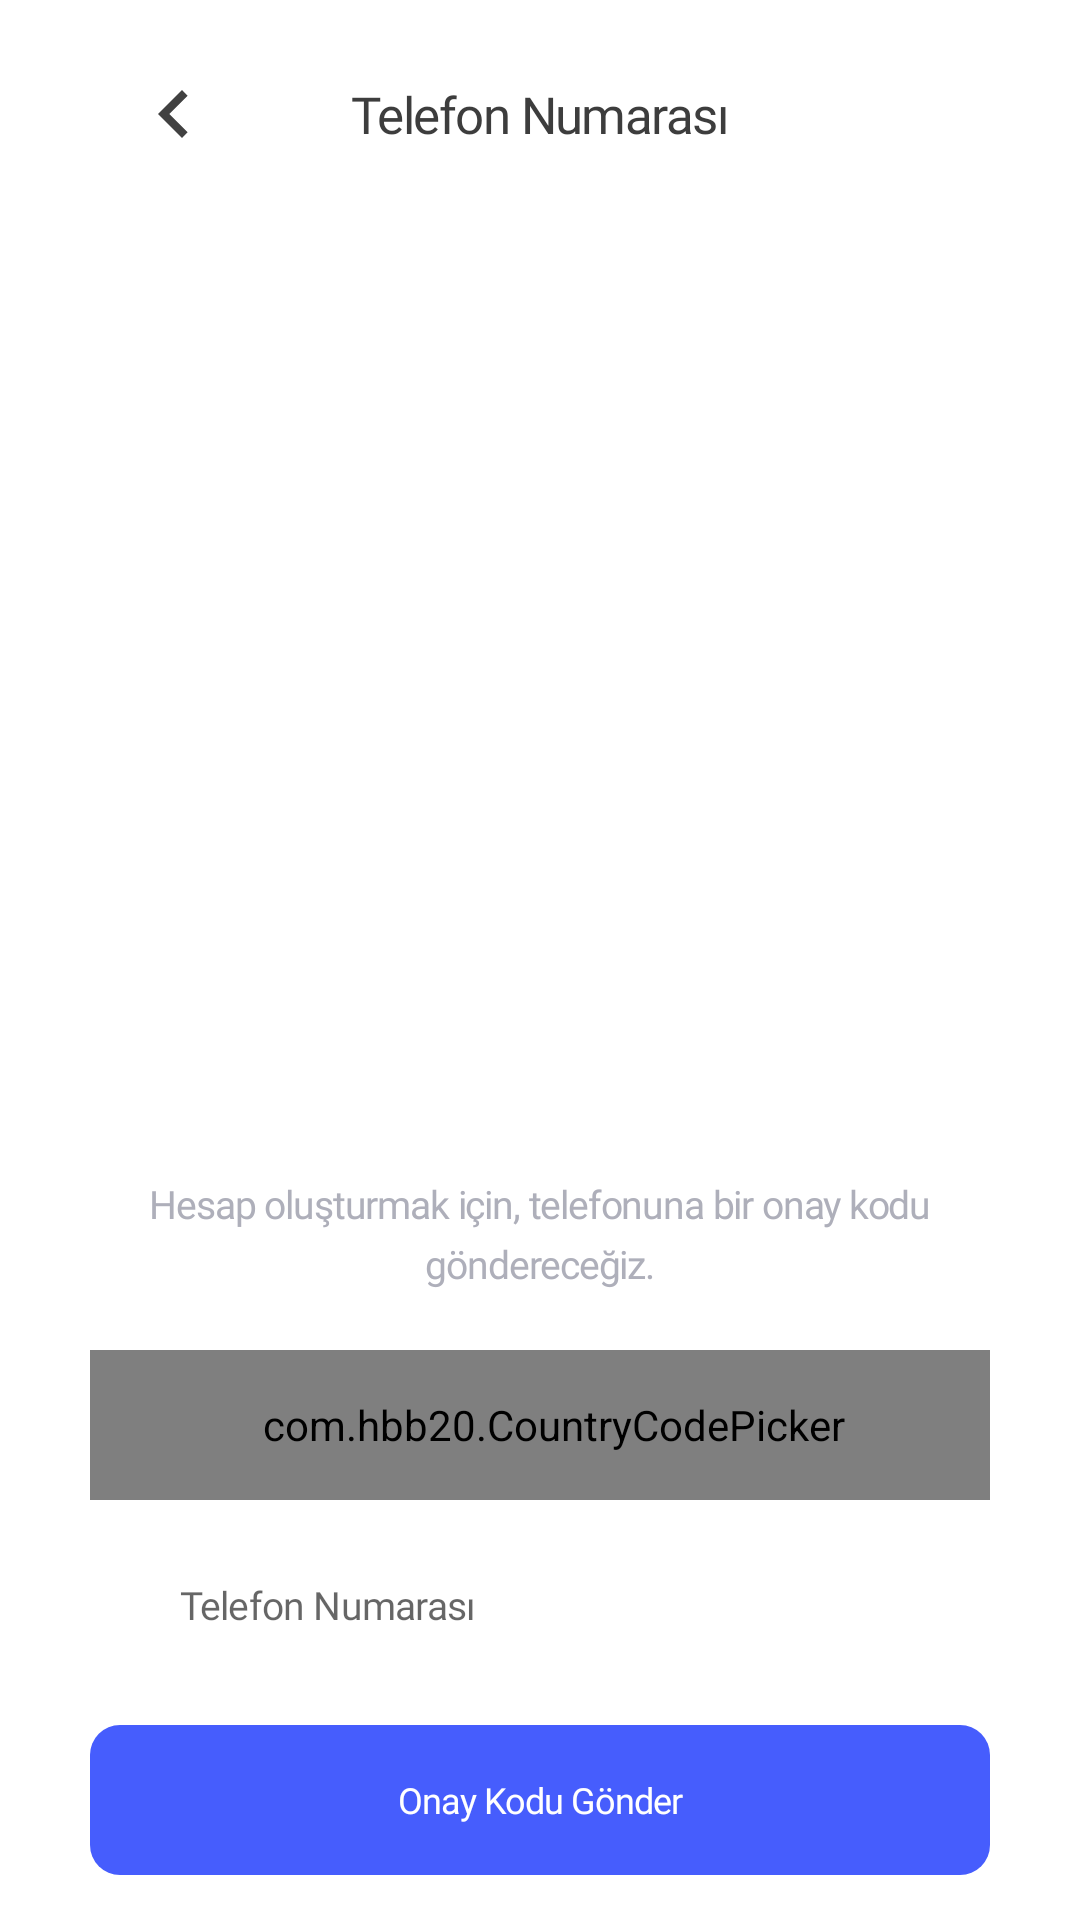

Where to tap for icons on this 1080px x 1920px app screen, as (x=x, y=y):
chevron left: (x=173, y=114)
